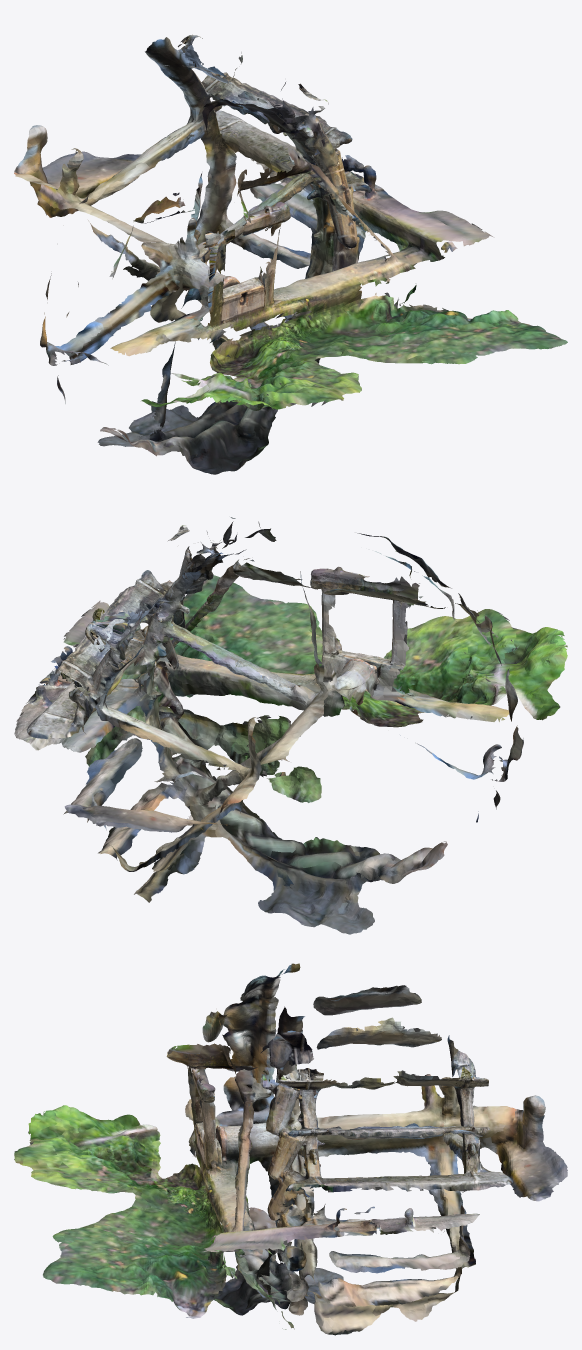
File: Scaniverse 2026-10-07 173556.glb
The picture shows the model from 3 angles, top to bottom: view 1: azimuth 30°, elevation 25°; view 2: azimuth 150°, elevation 25°; view 3: azimuth 270°, elevation 25°; orthographic projection. The views are drawn at different scales.
Visible parts, largest first — view 1: mesh; view 2: mesh; view 3: mesh.
Part boxes in pixels (<box>): mesh: <box>14,34,567,474</box>; mesh: <box>14,517,567,934</box>; mesh: <box>14,963,567,1335</box>.
Size of the model in its own units: 5.42 by 4.6 by 6.81.
Materials: 1 (1 with a texture image).
